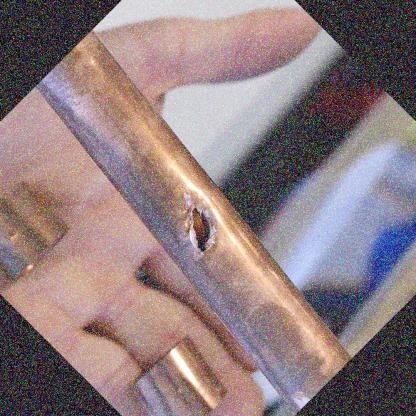burst: (175, 200, 227, 259)
